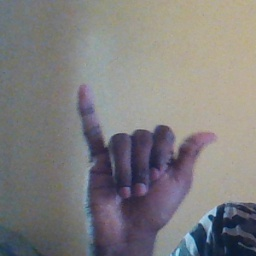J: (72, 82, 220, 234)
